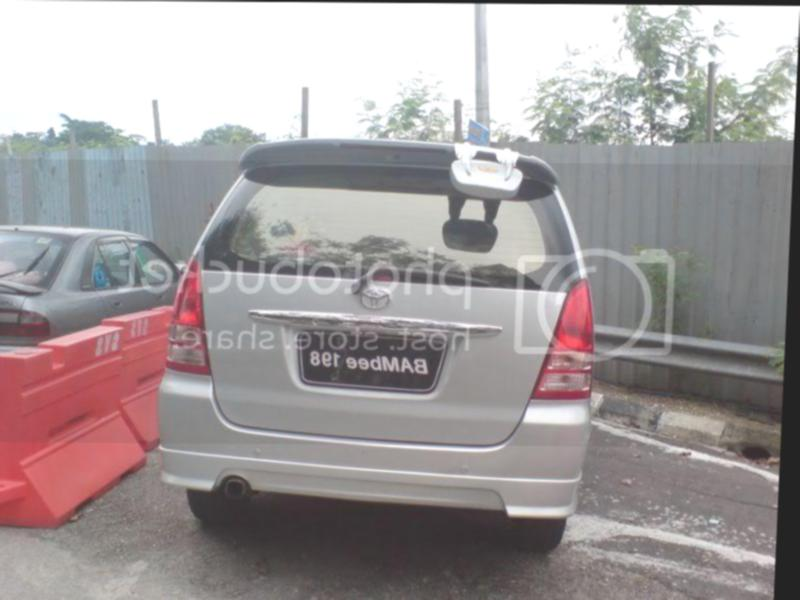License_Plate: (288, 326, 450, 396)
